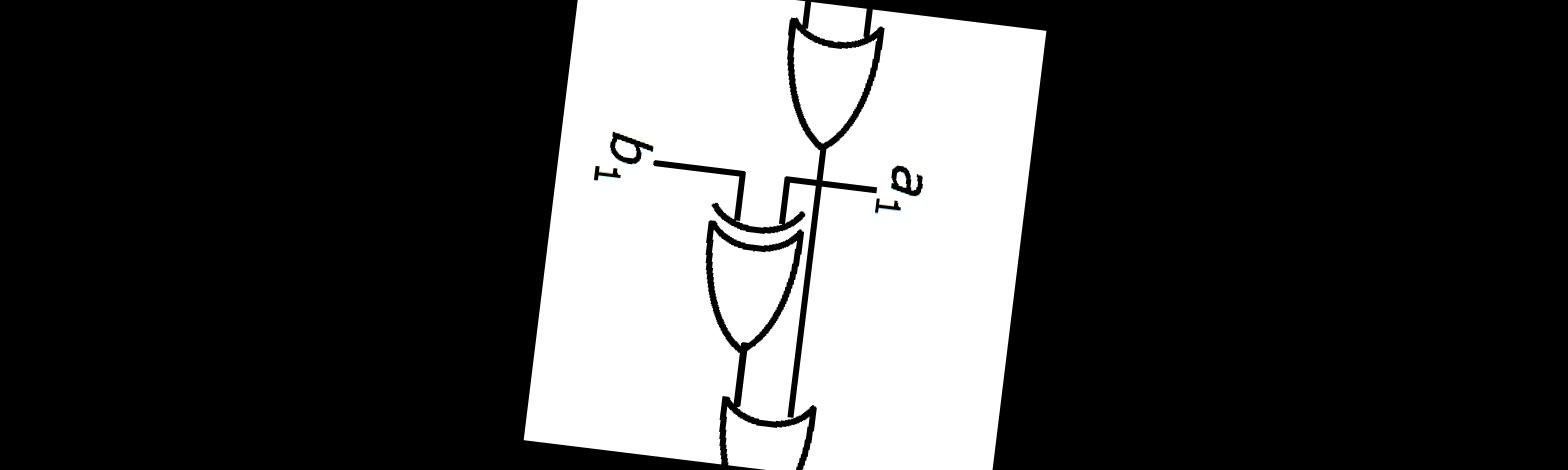or: (756, 0, 897, 174), (701, 375, 828, 470)
xor: (676, 187, 816, 360)
